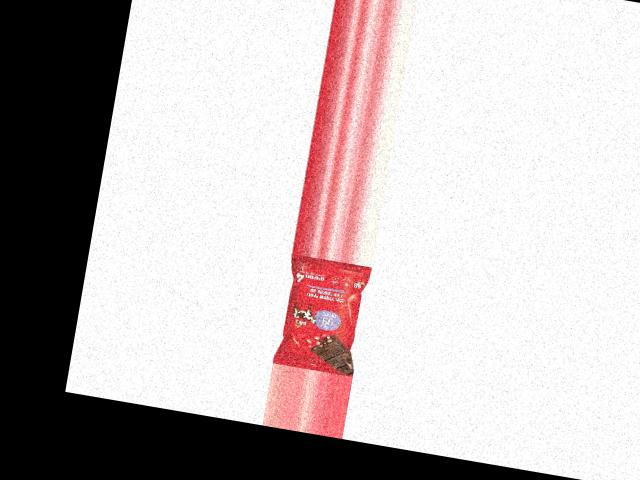chocolate: (275, 253, 372, 376)
